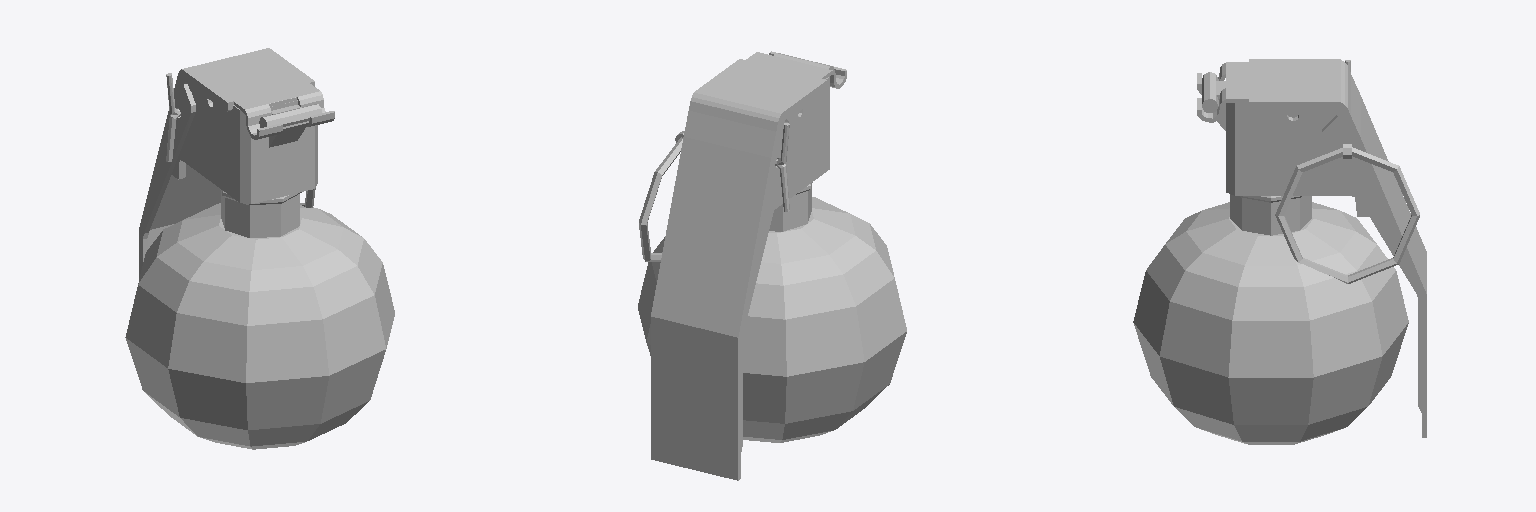
Rendered from M67 Grenade 1.obj.
The picture shows the model from 3 angles: view 1: azimuth 30°, elevation 25°; view 2: azimuth 150°, elevation 25°; view 3: azimuth 270°, elevation 25°; orthographic projection.
Visible parts, largest first — view 1: M67_Grenade_1, M67_Grenade_1_Pin_1, M67_Grenade_1_Safety_Pin_1; view 2: M67_Grenade_1_Pin_1, M67_Grenade_1, M67_Grenade_1_Safety_Pin_Handle_1, M67_Grenade_1_Safety_Pin_1; view 3: M67_Grenade_1, M67_Grenade_1_Pin_1, M67_Grenade_1_Safety_Pin_Handle_1.
Part boxes in pixels (bbox=[...]): M67_Grenade_1: bbox=[125, 92, 394, 449]; M67_Grenade_1_Pin_1: bbox=[139, 48, 334, 277]; M67_Grenade_1_Safety_Pin_1: bbox=[166, 73, 180, 161]; M67_Grenade_1_Pin_1: bbox=[651, 51, 846, 480]; M67_Grenade_1: bbox=[638, 53, 906, 442]; M67_Grenade_1_Safety_Pin_Handle_1: bbox=[639, 137, 682, 261]; M67_Grenade_1_Safety_Pin_1: bbox=[675, 123, 789, 211]; M67_Grenade_1: bbox=[1133, 72, 1408, 444]; M67_Grenade_1_Pin_1: bbox=[1197, 59, 1426, 437]; M67_Grenade_1_Safety_Pin_Handle_1: bbox=[1275, 147, 1419, 283].
Bounding box in the file's own units: 0.0711 × 0.1048 × 0.0796.